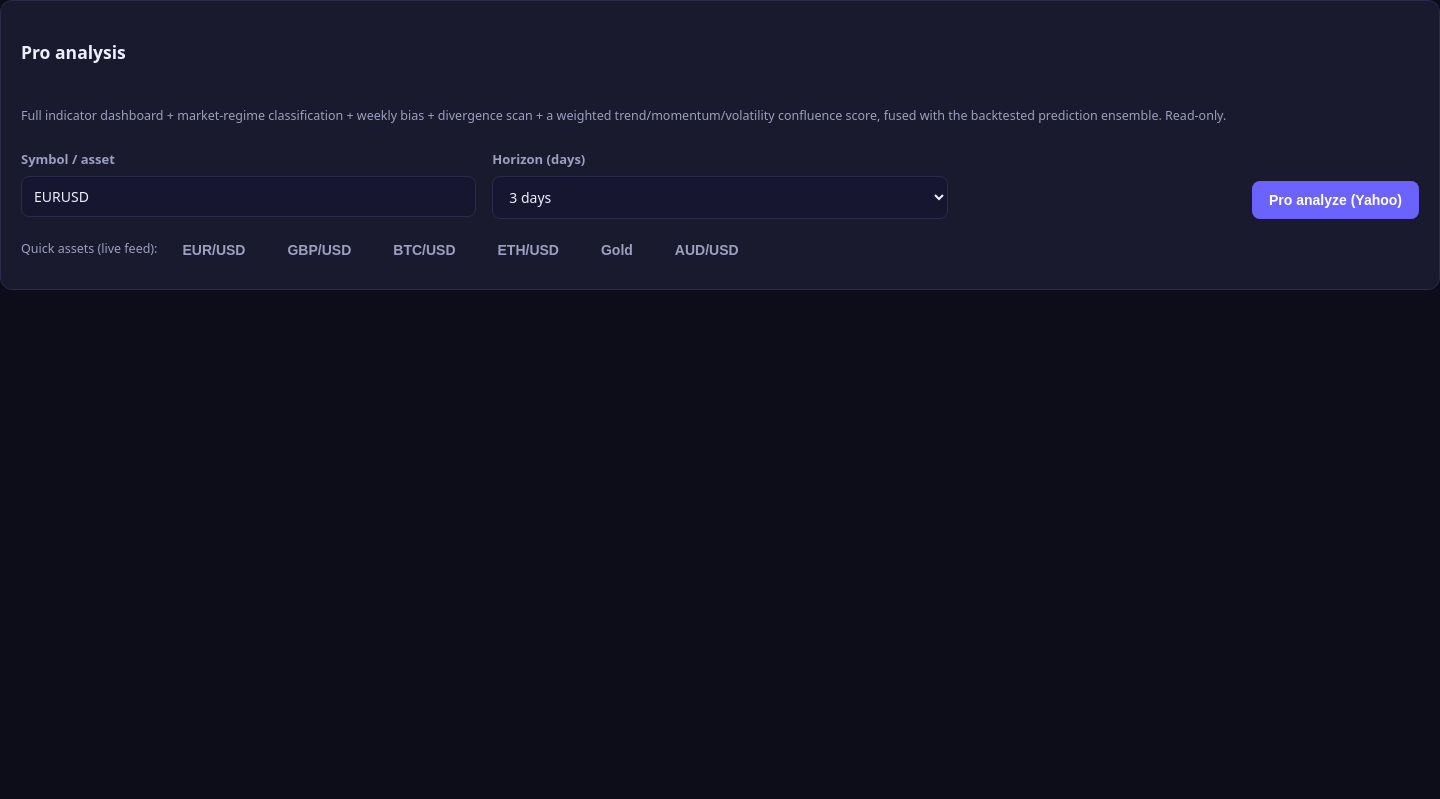
Test: ProAnalysisCard fusion layers (B-FUS-3) › renders the 5-group matrix — regime + MTF layer rows with the evidence-only tag
Click the button "Pro analyze (Yahoo)".
click(1336, 200)  # box [1252, 181, 1419, 219]
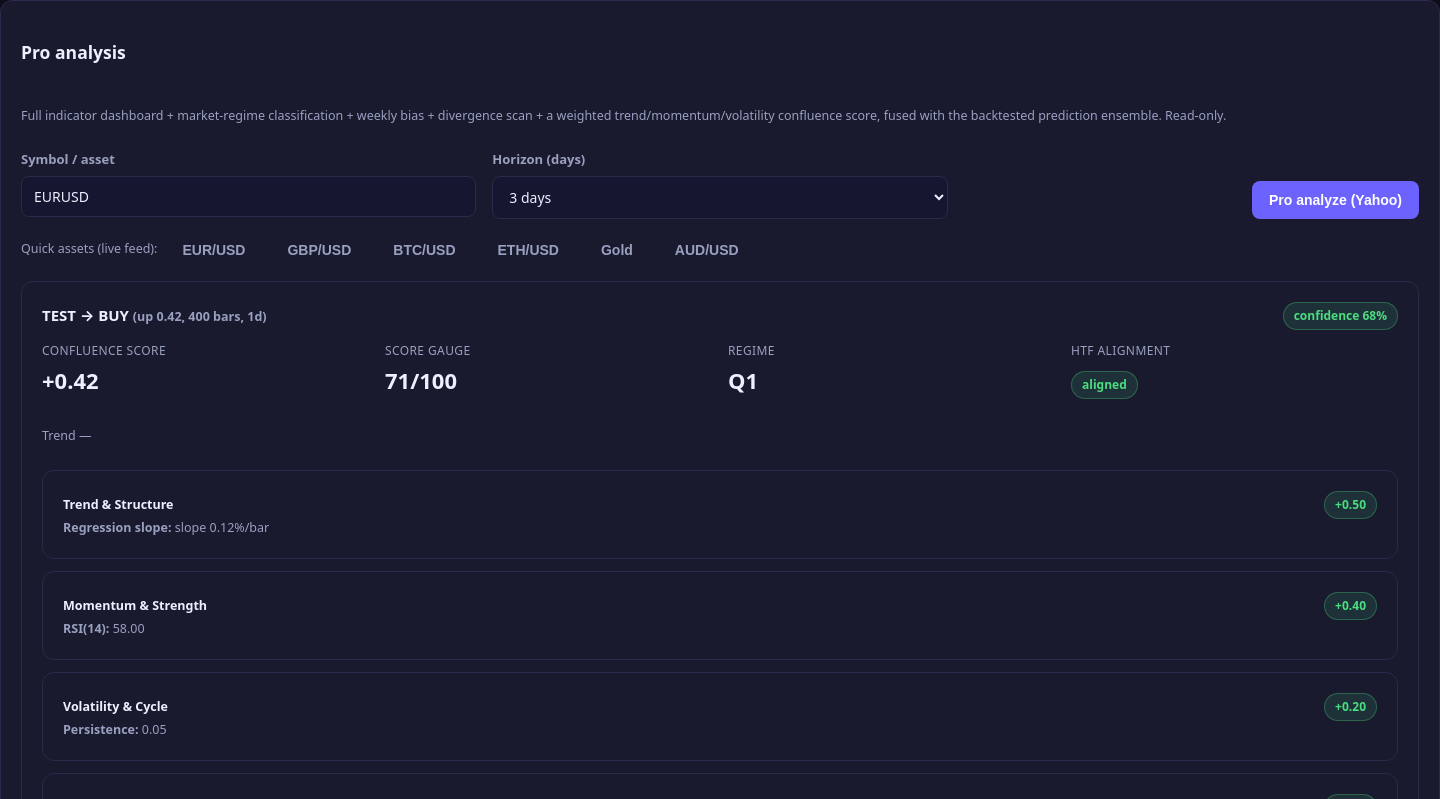
Result: the text "Trend & Structure" is shown at [63, 496, 174, 515]
Result: the text "Momentum & Strength" is shown at [63, 597, 207, 616]
Result: the text "Volatility & Cycle" is shown at [63, 698, 168, 716]
